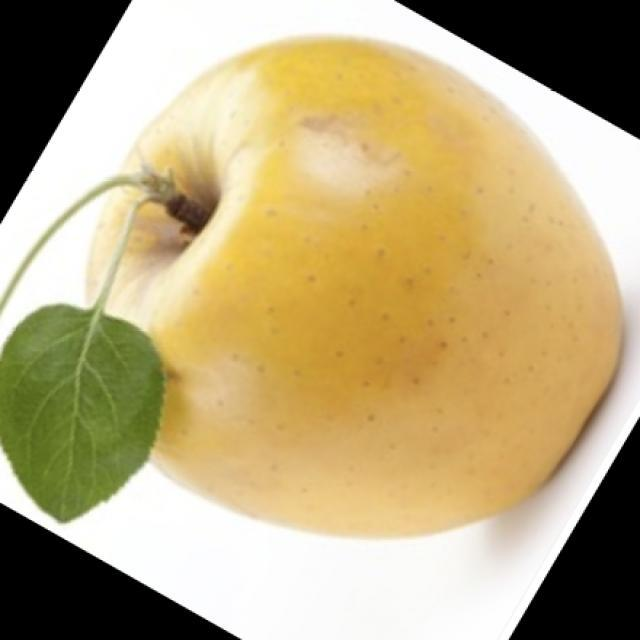Fresh Apple: (96, 32, 616, 525)
